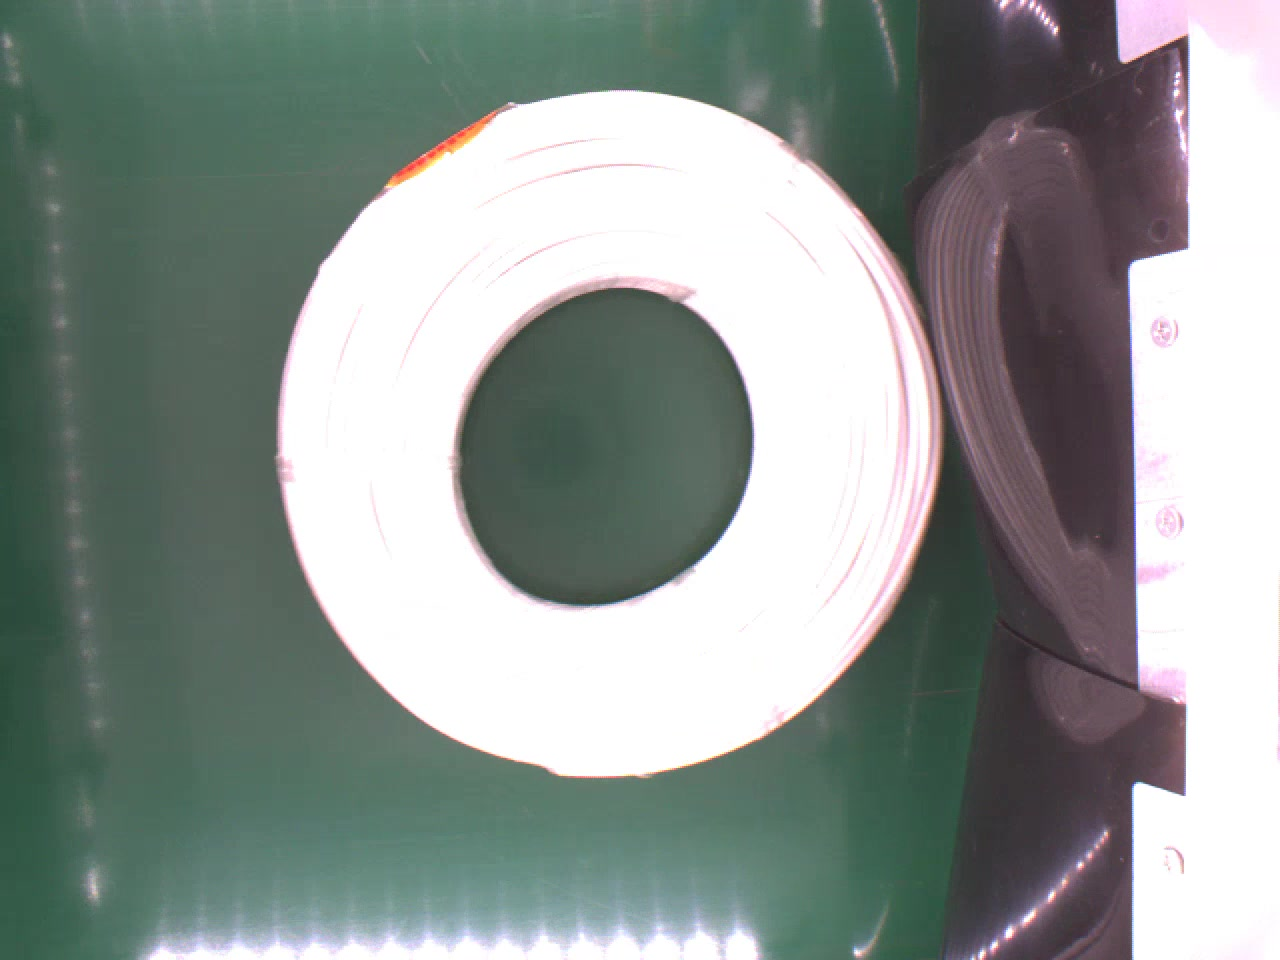white: (266, 88, 958, 798)
